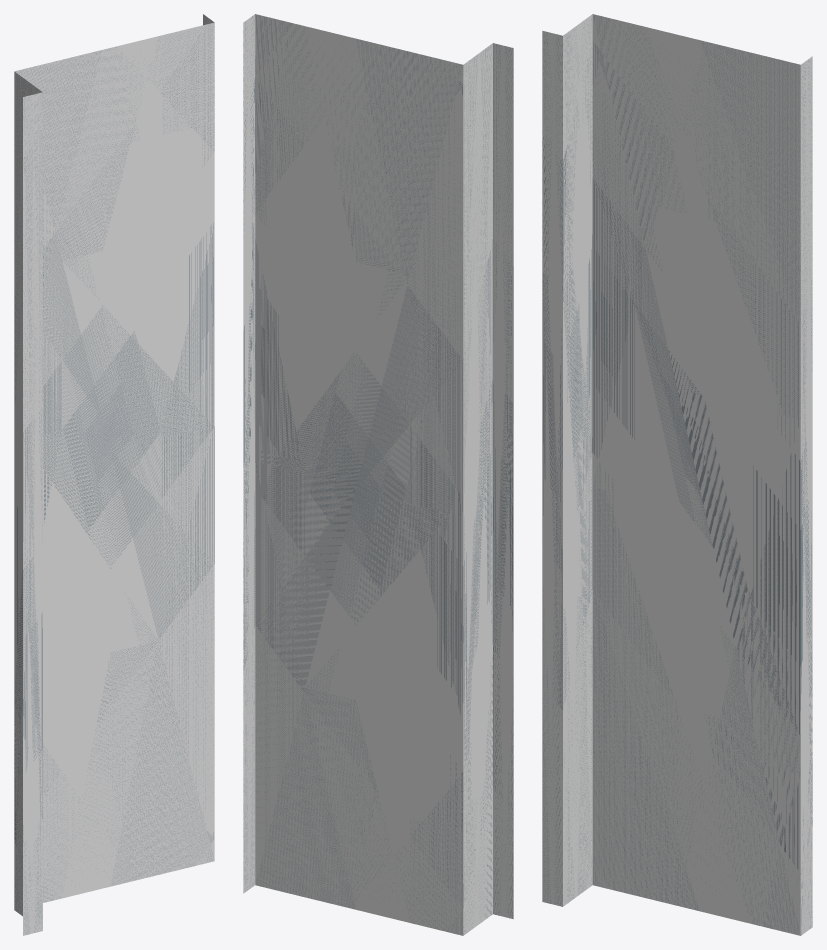
File: PW_CornerFixElem_os_T3_035x110x010x400.dae
3 renders of one model, left to right at view 1: azimuth 30°, elevation 25°; view 2: azimuth 150°, elevation 25°; view 3: azimuth 330°, elevation 25°, orthographic. The views are drawn at different scales.
Parts seen in each view (by area): view 1: group_0; view 2: group_0; view 3: group_0.
Boxes of the visible parts, x1,y1,x2,y2 form: group_0: (14, 14, 214, 935); group_0: (243, 14, 513, 935); group_0: (542, 14, 812, 935).
Bounding box in the file's own units: 43.31 × 13.67 × 157.
